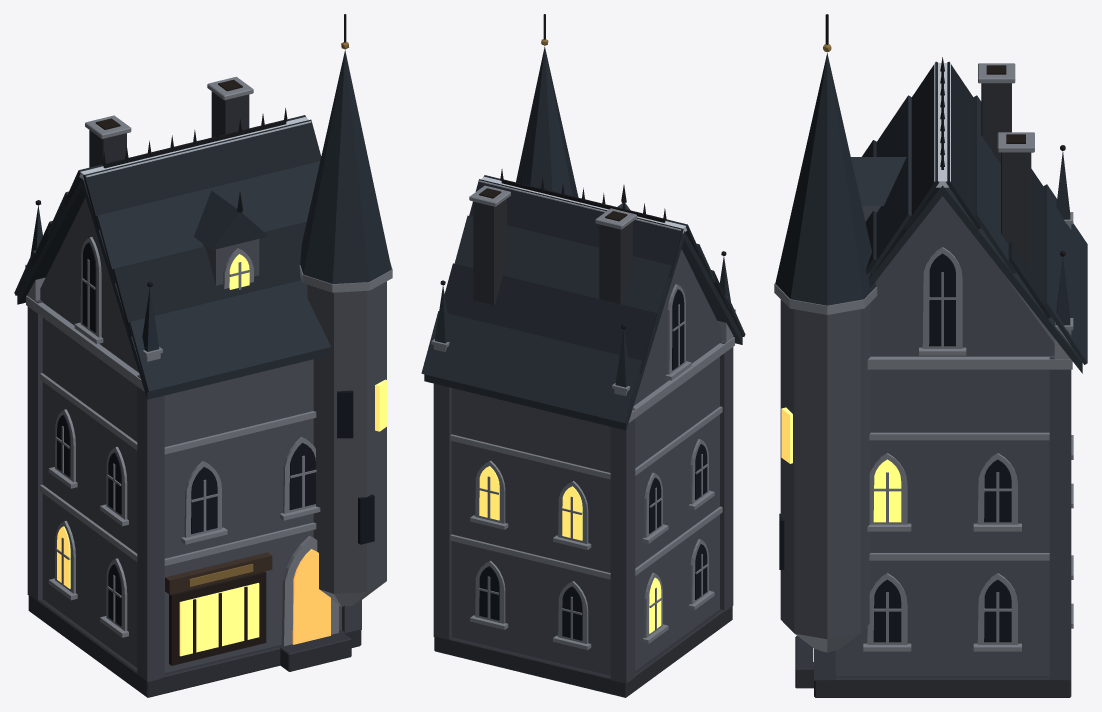
The model's file is gothic_house_b.glb.
3 views of the same model, side by side, from view 1: azimuth 30°, elevation 25°; view 2: azimuth 150°, elevation 25°; view 3: azimuth 270°, elevation 25° (orthographic). The views are drawn at different scales.
Visible parts, largest first — view 1: gothic_house_b; view 2: gothic_house_b; view 3: gothic_house_b.
Part boxes in pixels (x1,y1,x2,y2): gothic_house_b: [14, 14, 392, 697]; gothic_house_b: [421, 14, 745, 697]; gothic_house_b: [774, 14, 1087, 697].
Size of the model in its own units: 6.4 by 15.25 by 6.39.
